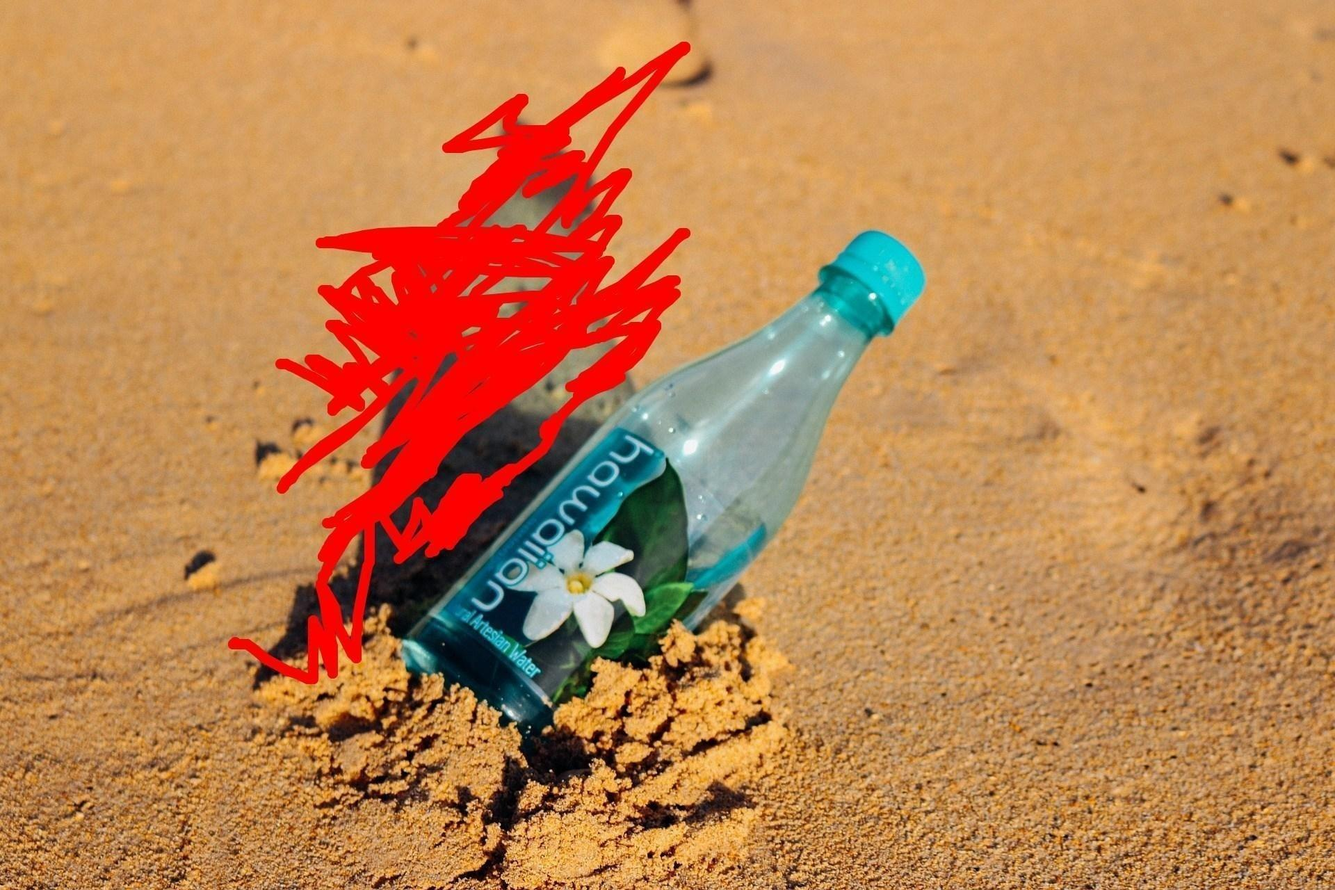bottle-plastic: (407, 225, 930, 734)
